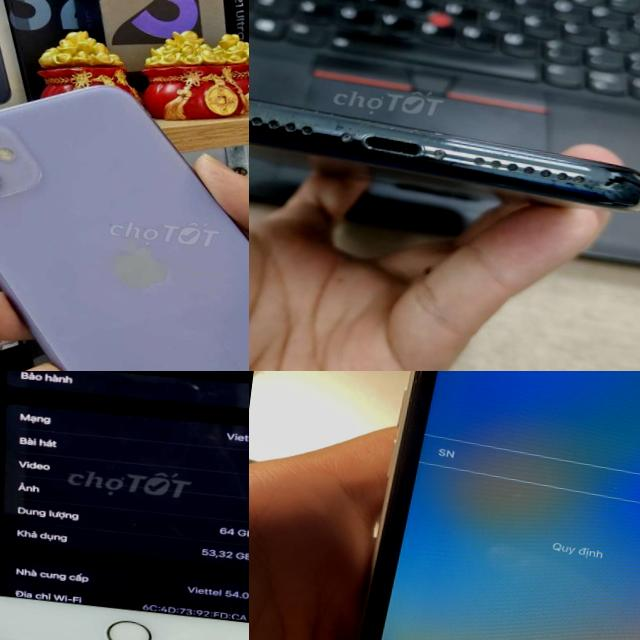gen_11: (249, 60, 640, 252), (0, 87, 249, 371)
gen_7_8: (0, 371, 249, 640)
gen_x_xs: (313, 371, 640, 640)
